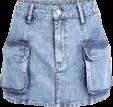Hemline: (3, 94, 109, 106)
Waistline: (18, 0, 93, 6)
